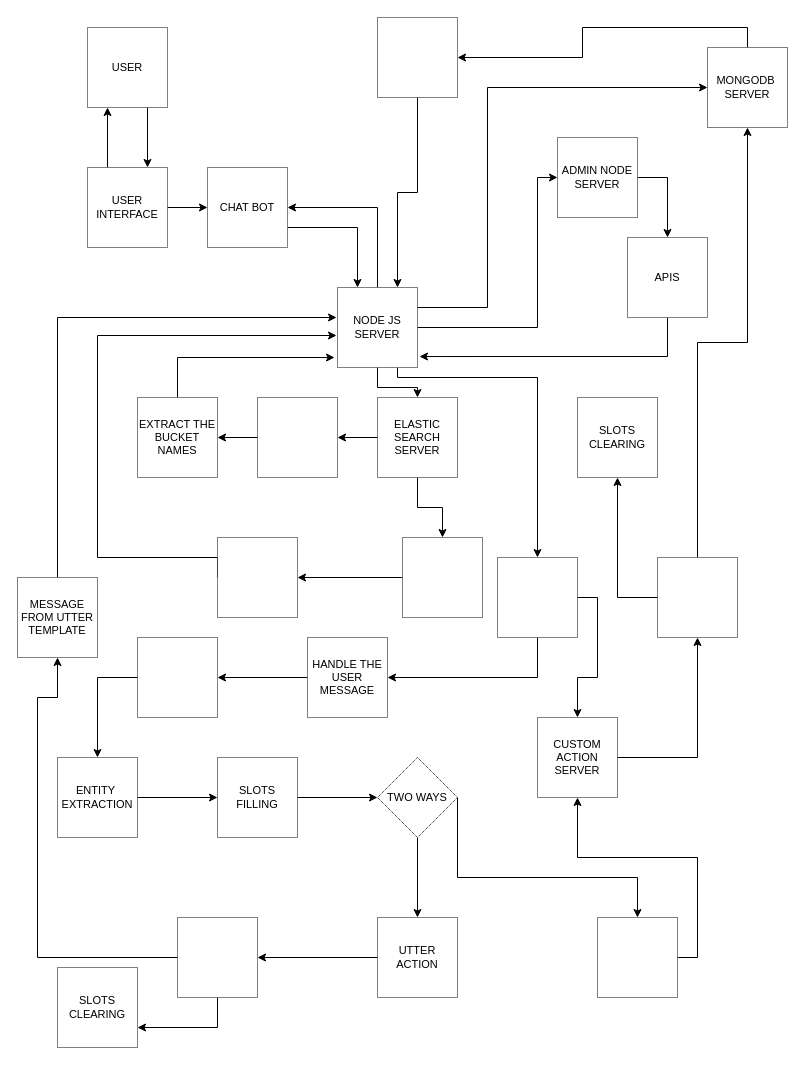
Some shapes in this 805 by 1065 pixel diagram are drawn without their labels. The centre of each missing label's shape, as x and y in pixels:
"ANACONDA RASA SERVER" goes at (537,597).
"CUSTOM ACTION" goes at (637,957).
"INTENT CLASSIFICATION" goes at (177,677).
"PERFORMING CUSTOM ACTION" goes at (697,597).
"POP UP SUGGESTIONS LAYOUT" goes at (257,577).
"QUERY AND AGGREGATE THE DOCUMENTS" goes at (297,437).
"QUERY FOR THE ANSWER" goes at (417,57).
"QUERY THE QUESTION FOR SUGGESTIONS" goes at (442,577).
"UTTER TEMPLATE CODE" goes at (217,957).
